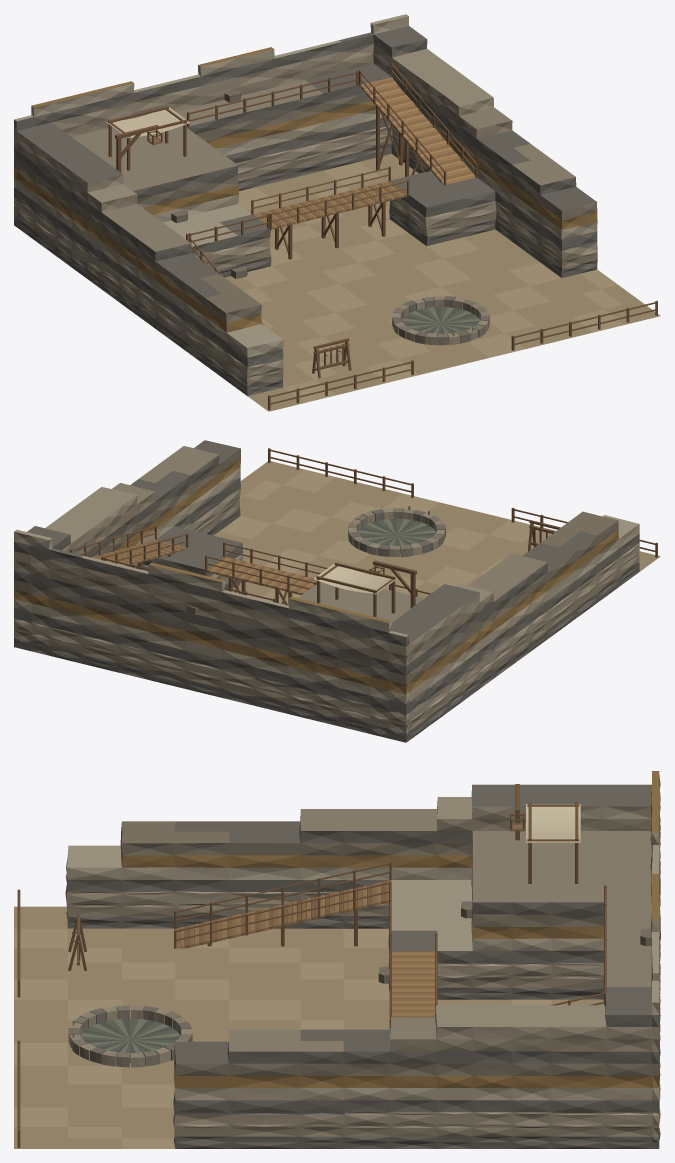
The model's file is quarry-static.glb.
The picture shows the model from 3 angles, top to bottom: view 1: azimuth 30°, elevation 25°; view 2: azimuth 150°, elevation 25°; view 3: azimuth 270°, elevation 25°; orthographic projection. The views are drawn at different scales.
Visible parts, largest first — view 1: AM_batch_stone, AM_batch_ground, AM_batch_wood, AM_batch_canvas; view 2: AM_batch_stone, AM_batch_ground, AM_batch_wood, AM_batch_canvas; view 3: AM_batch_stone, AM_batch_ground, AM_batch_wood, AM_batch_canvas.
Boxes of the visible parts, x1,y1,x2,y2 form: AM_batch_stone: [14, 14, 597, 396]; AM_batch_ground: [224, 154, 660, 411]; AM_batch_wood: [108, 62, 657, 409]; AM_batch_canvas: [106, 107, 189, 137]; AM_batch_stone: [14, 440, 639, 742]; AM_batch_ground: [214, 461, 660, 604]; AM_batch_wood: [70, 448, 657, 617]; AM_batch_canvas: [313, 563, 397, 594]; AM_batch_stone: [65, 771, 660, 1148]; AM_batch_ground: [14, 906, 603, 1148]; AM_batch_wood: [17, 784, 606, 1147]; AM_batch_canvas: [526, 804, 580, 842].
Bounding box in the file's own units: 32.18 × 9.49 × 36.1.
